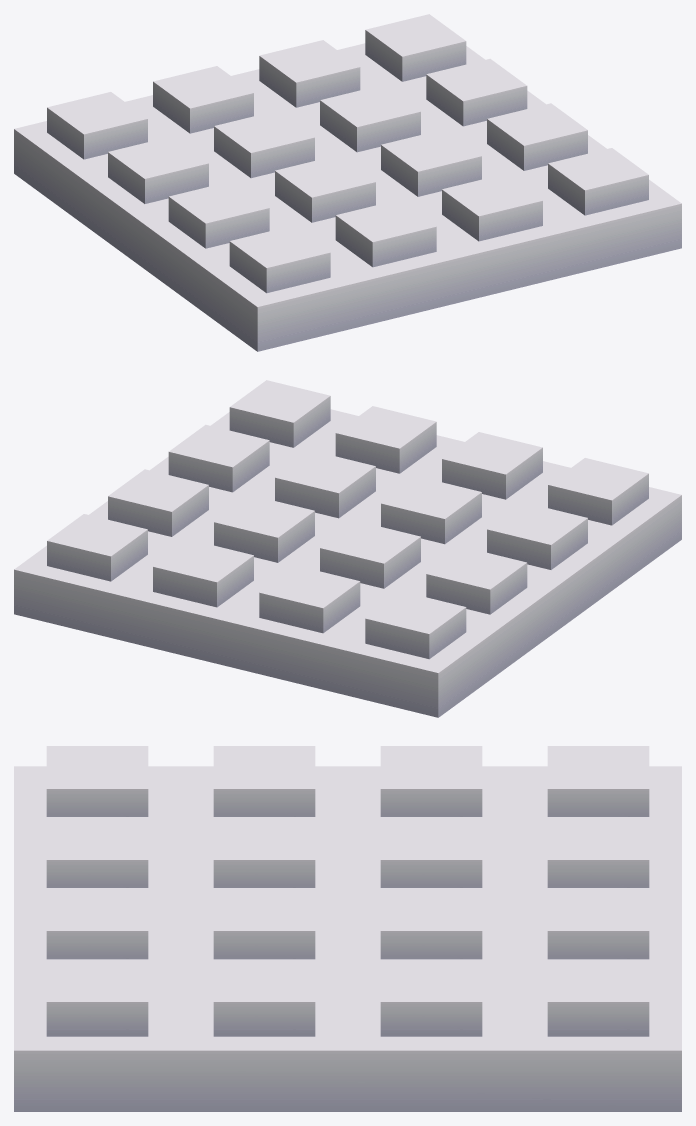
The model's file is square-lq-plate-4x4.glb.
3 renders of one model, top to bottom at view 1: azimuth 30°, elevation 25°; view 2: azimuth 150°, elevation 25°; view 3: azimuth 270°, elevation 25°, orthographic. The views are drawn at different scales.
Parts seen in each view (by area): view 1: square-lq-plate-4x4; view 2: square-lq-plate-4x4; view 3: square-lq-plate-4x4.
Part boxes in pixels (x1,y1,x2,y2): square-lq-plate-4x4: (14, 14, 681, 351); square-lq-plate-4x4: (14, 380, 681, 717); square-lq-plate-4x4: (14, 746, 681, 1111).
Bounding box in the file's own units: 0.318 × 0.05 × 0.316.
1 material, 1 textured.
